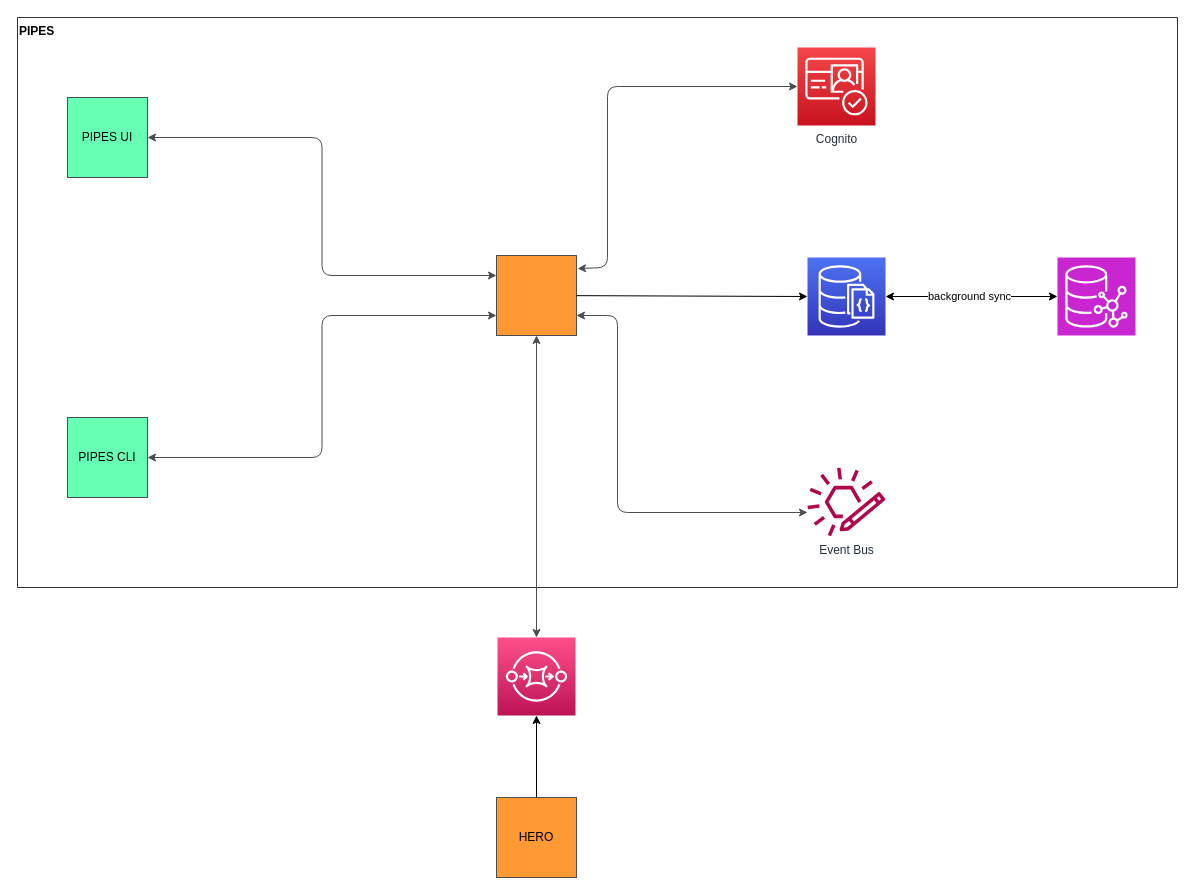
The diagram is 1195 pixels wide and 895 high, and some of its shapes have lost their labels. Here are the shapes that lost their labels. From the top down, the centre of each, then its label:
the point at 536,295: PIPES API
the point at 846,296: DocumentDB
the point at 536,676: SQS
